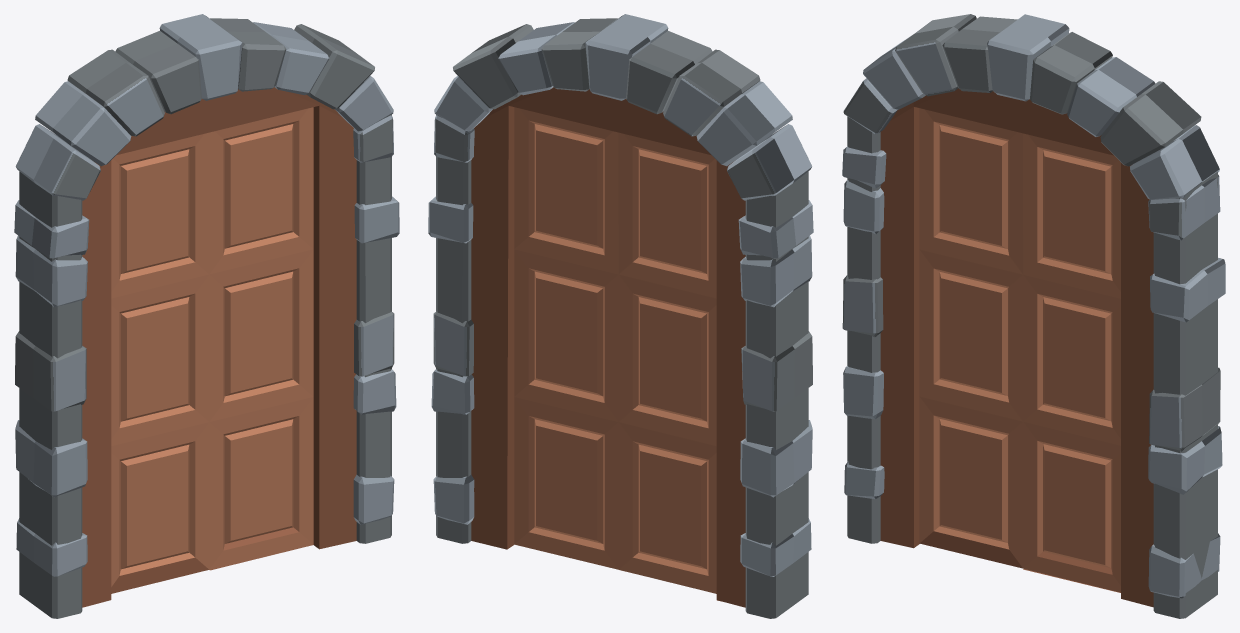
The model's file is LightWoodDecorationMediumRoundTop1.fbx.
3 renders of one model, left to right at view 1: azimuth 30°, elevation 25°; view 2: azimuth 150°, elevation 25°; view 3: azimuth 330°, elevation 25°, orthographic.
Parts seen in each view (by area): view 1: LightWoodDecorationMediumRoundTop1; view 2: LightWoodDecorationMediumRoundTop1; view 3: LightWoodDecorationMediumRoundTop1.
Boxes of the visible parts, bbox=[...] form: LightWoodDecorationMediumRoundTop1: bbox=[14, 14, 399, 618]; LightWoodDecorationMediumRoundTop1: bbox=[428, 14, 813, 618]; LightWoodDecorationMediumRoundTop1: bbox=[842, 14, 1225, 618].
Bounding box in the file's own units: 234 × 341 × 47.39.
